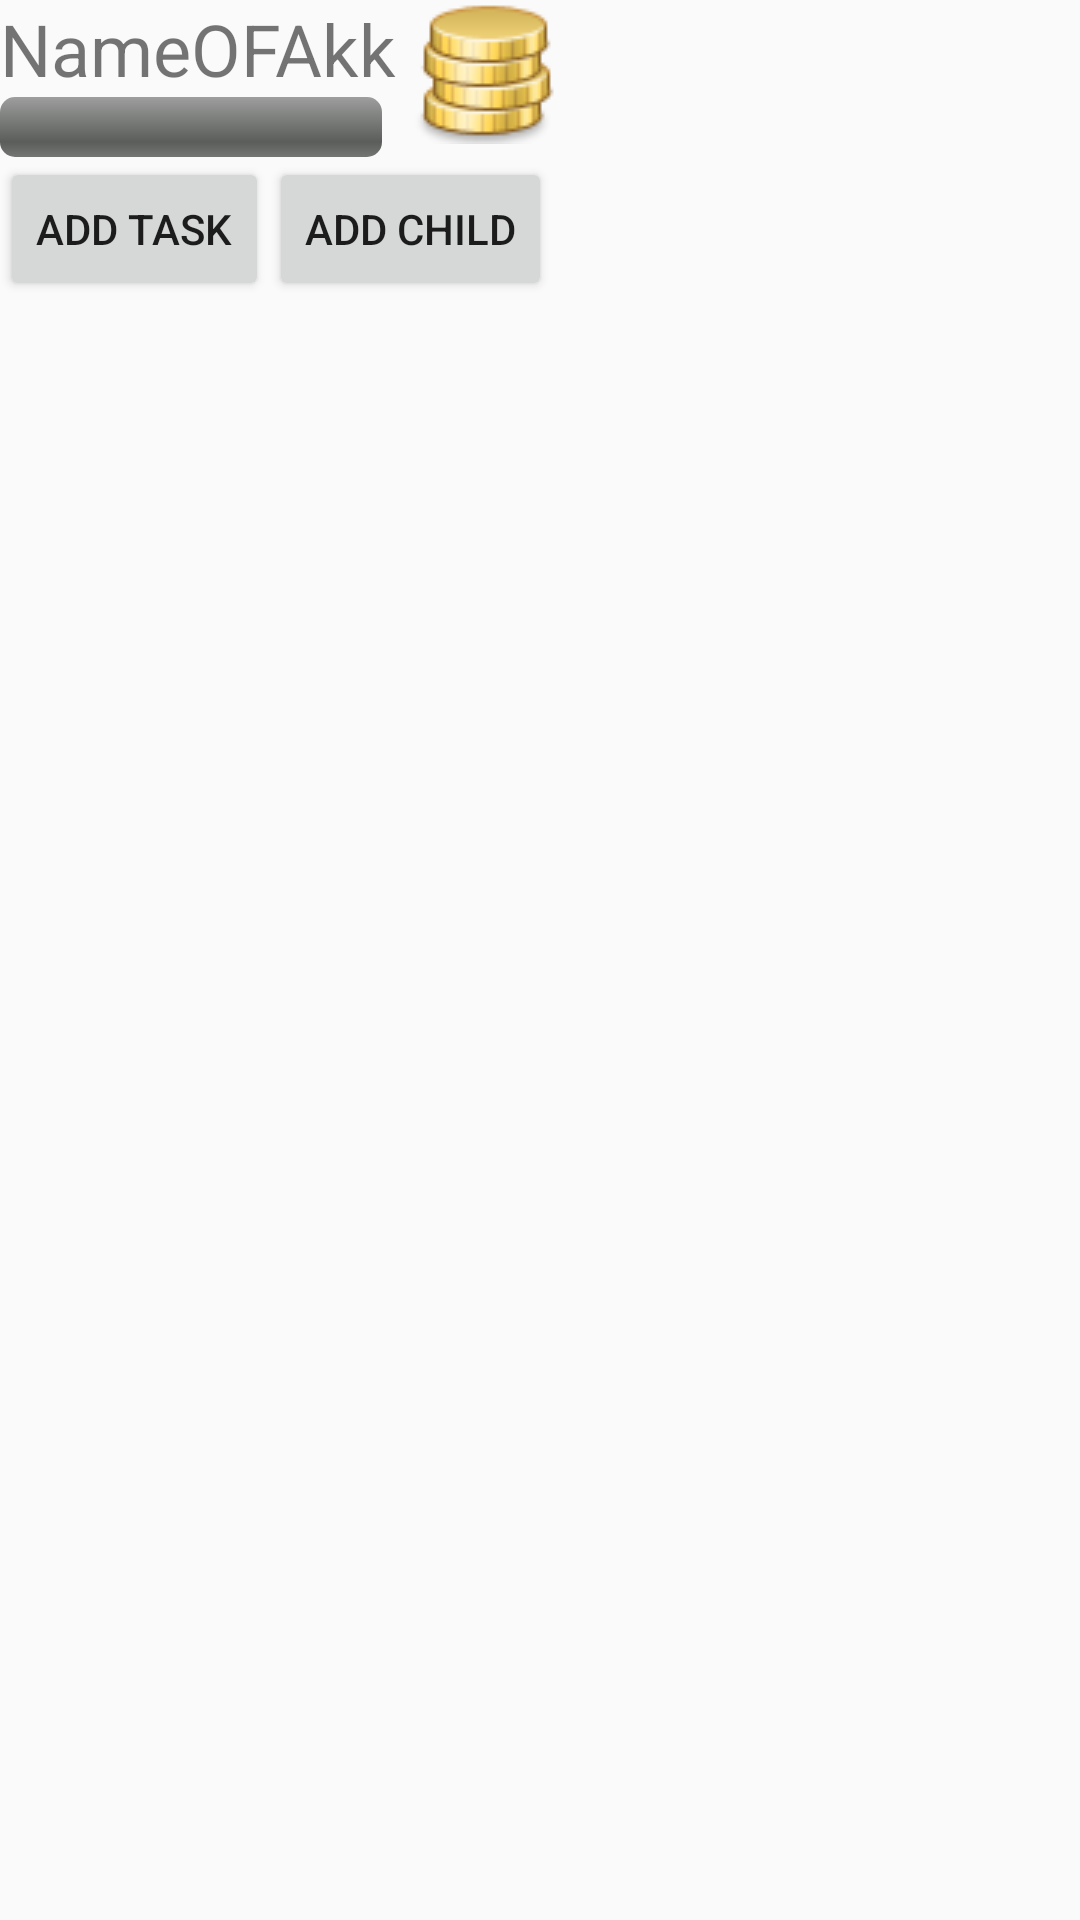

Named icons in this screenshot (1080*1920) and their bounding boxes, (x1, y1, x2, y2):
money: (421, 5, 554, 144)
